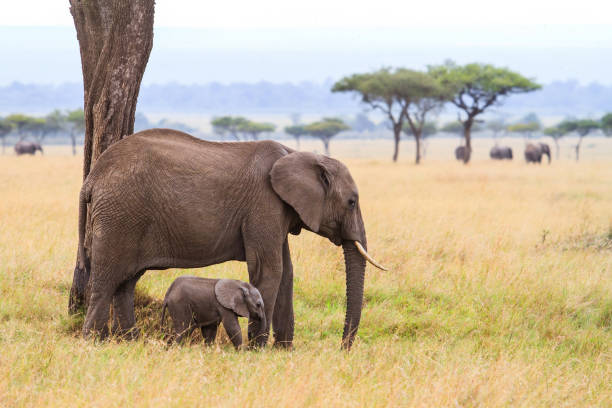africanelephant: (259, 149, 396, 275)
